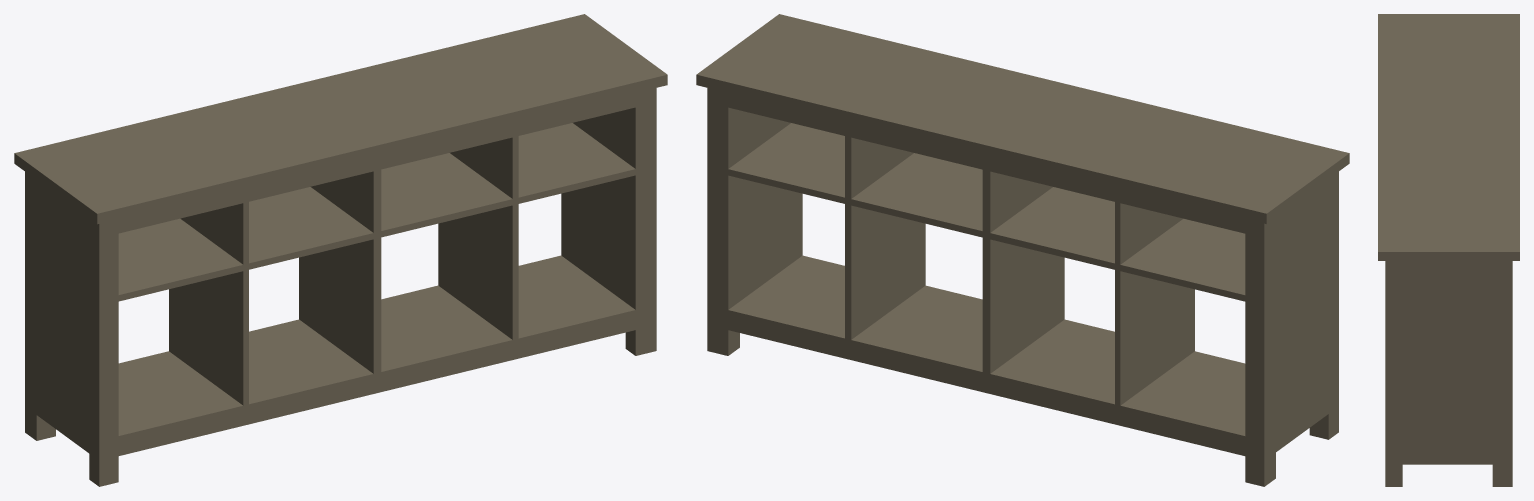
The model's file is IKEA_console_HEMNES.dae.
3 renders of one model, left to right at view 1: azimuth 30°, elevation 25°; view 2: azimuth 150°, elevation 25°; view 3: azimuth 270°, elevation 25°, orthographic. The views are drawn at different scales.
Parts seen in each view (by area): view 1: IKEA_console_HEMNES; view 2: IKEA_console_HEMNES; view 3: IKEA_console_HEMNES.
Boxes of the visible parts, x1=… form: IKEA_console_HEMNES: x1=14, y1=14, x2=667, y2=486; IKEA_console_HEMNES: x1=696, y1=14, x2=1349, y2=486; IKEA_console_HEMNES: x1=1378, y1=14, x2=1519, y2=486.
Size of the model in its own units: 1.59 by 0.4 by 0.74.
